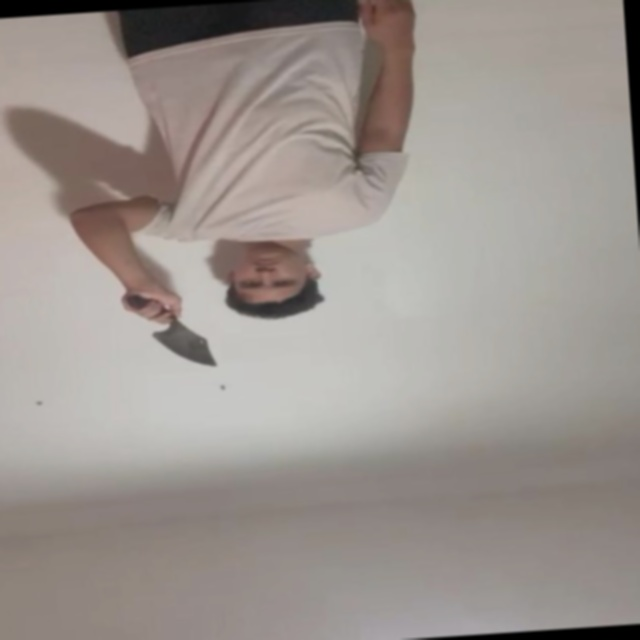Sharp-Object: (156, 327, 222, 369)
